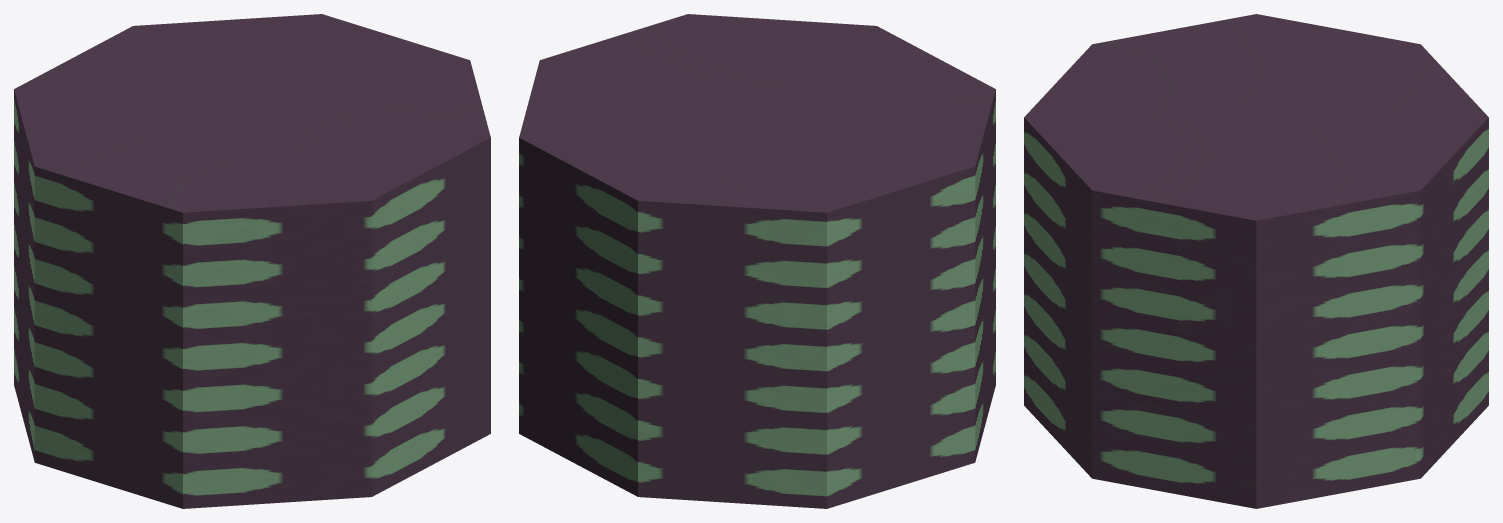
3 renders of one model, left to right at view 1: azimuth 30°, elevation 25°; view 2: azimuth 150°, elevation 25°; view 3: azimuth 270°, elevation 25°, orthographic. The views are drawn at different scales.
Visible parts, largest first — view 1: geometry_0; view 2: geometry_0; view 3: geometry_0.
Part boxes in pixels (left/top/right/bottom): geometry_0: left=14, top=14, right=490, bottom=508; geometry_0: left=519, top=14, right=995, bottom=508; geometry_0: left=1024, top=14, right=1488, bottom=508.
Size of the model in its own units: 1.58 by 1.03 by 1.51.
Materials: 1 (1 with a texture image).
